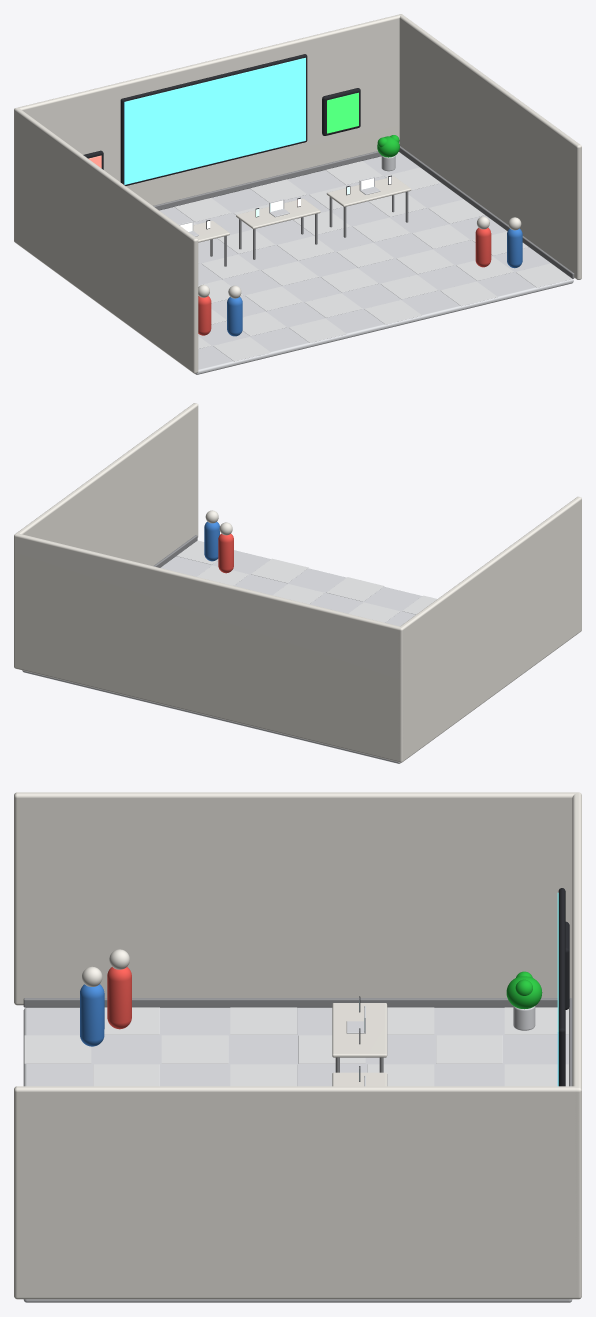
Rendered from apple_store_showroom.glb.
3 renders of one model, top to bottom at view 1: azimuth 30°, elevation 25°; view 2: azimuth 150°, elevation 25°; view 3: azimuth 270°, elevation 25°, orthographic. The views are drawn at different scales.
Parts seen in each view (by area): view 1: Set, Flat_001, Glow, Part_079, Part_095, Flat_036, Flat_021, Flat_009, Flat_017, Flat_024, Flat_028, Flat_029 (+24 smaller); view 2: Set, Flat_001, Flat_025, Flat_033, Flat_021, Flat_029, Part_117, Part_120, Flat_037; view 3: Set, Flat_001, Part_063, Flat_008, Flat_006, Flat_004, Flat_009, Flat_012, Flat_013, Part_114, Part_111, Flat_003 (+6 smaller).
Part boxes in pixels (box(x1,y1,x2,y2)): Set: box(14, 14, 581, 373); Flat_001: box(159, 152, 573, 374); Glow: box(88, 57, 358, 184); Part_079: box(236, 198, 320, 229); Part_095: box(326, 176, 411, 206); Flat_036: box(412, 224, 469, 248); Flat_021: box(304, 293, 362, 317); Flat_009: box(213, 337, 270, 361); Flat_017: box(289, 318, 346, 342); Flat_024: box(321, 268, 378, 292); Flat_028: box(337, 242, 394, 267); Flat_029: box(380, 275, 438, 299); Set: box(14, 403, 581, 762); Flat_001: box(22, 550, 421, 763); Flat_025: box(326, 577, 384, 601); Flat_033: box(251, 558, 308, 583); Flat_021: box(348, 602, 400, 622); Flat_029: box(272, 584, 324, 604); Part_117: box(218, 533, 233, 573); Part_120: box(204, 521, 219, 561); Flat_037: box(197, 565, 248, 585); Set: box(14, 792, 581, 1299); Flat_001: box(23, 1007, 572, 1302); Part_063: box(332, 1003, 387, 1057); Flat_008: box(161, 1035, 228, 1063); Flat_006: box(436, 1035, 502, 1063); Flat_004: box(230, 1007, 297, 1034); Flat_009: box(24, 1035, 91, 1063); Flat_012: box(230, 1064, 297, 1086); Flat_013: box(93, 1064, 159, 1086); Part_114: box(80, 984, 104, 1046); Part_111: box(107, 967, 131, 1029); Flat_003: box(387, 1007, 434, 1034).
Bounding box in the file's own units: 10.28 × 3.52 × 8.28.
